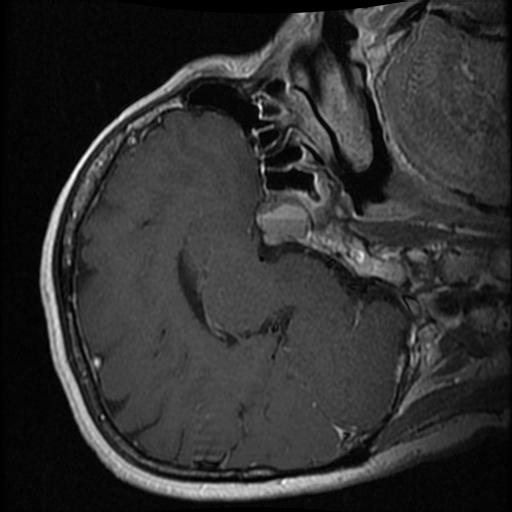pituitary tumour: (259, 204, 307, 242)
